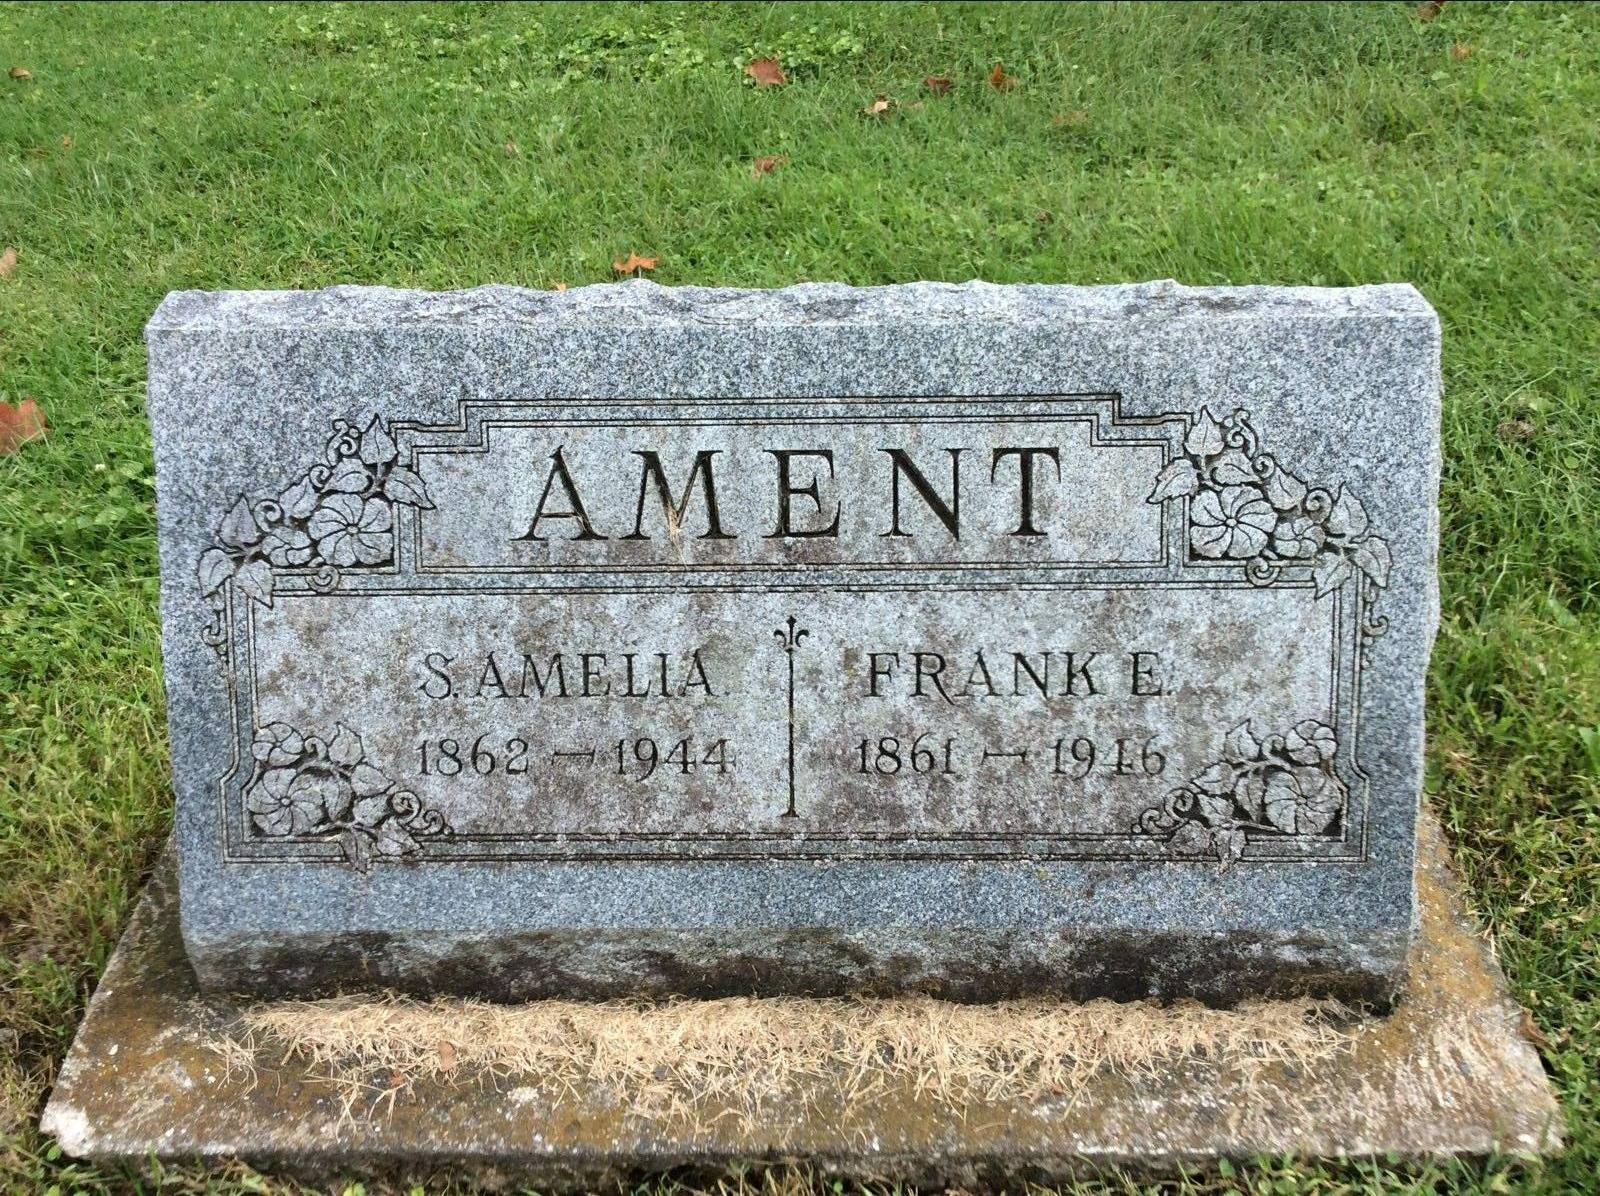upright: (36, 266, 1594, 1188)
